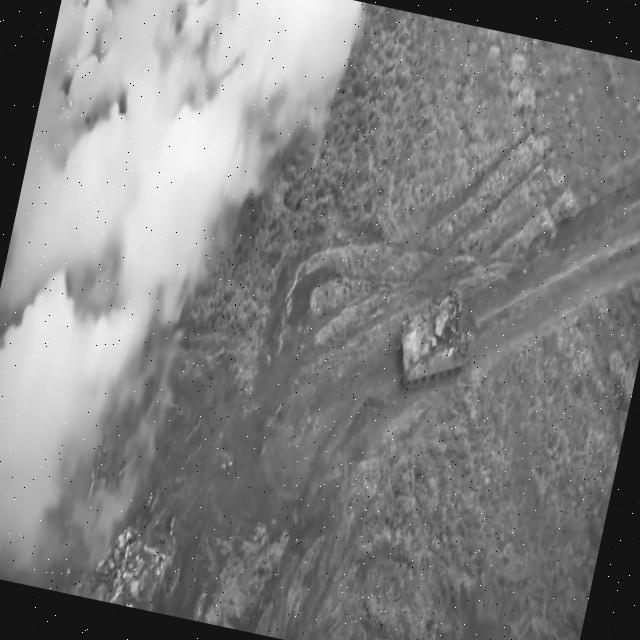AIFV: (387, 271, 488, 406)
